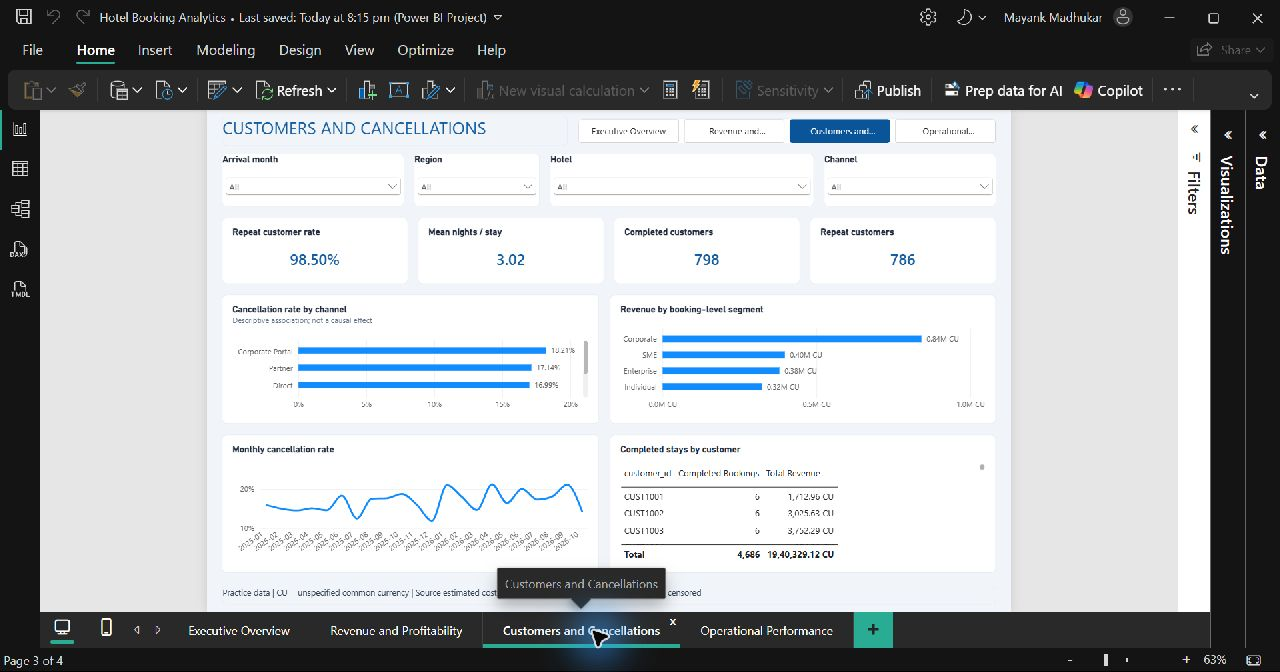

This screenshot's page, from the dashboard's own definition file:
{"tool":"powerbi","page":{"name":"Customers and Cancellations","canvas":[1280,800],"ordinal":2},"visuals":[{"type":"textbox","title":"Header","box":[24,10,550,48],"z":124},{"type":"slicer","title":"Arrival month","fields":{"Values":["DimDate.year_month"]},"box":[24,70,290,84],"z":724},{"type":"pageNavigator","title":"Page navigation","box":[590,14,666,40],"z":730},{"type":"slicer","title":"Region","fields":{"Values":["DimHotels.region"]},"box":[330,70,200,84],"z":1030},{"type":"slicer","title":"Hotel","fields":{"Values":["DimHotels.hotel_name"]},"box":[546,70,420,84],"z":1246},{"type":"slicer","title":"Channel","fields":{"Values":["DimChannels.channel_name"]},"box":[982,70,274,84],"z":1682},{"type":"card","title":"Repeat customer rate","fields":{"Values":["FactBookings.Repeat Customer Rate"]},"box":[24,172,296,105],"z":1744},{"type":"card","title":"Mean nights / stay","fields":{"Values":["FactBookings.Average Length of Stay"]},"box":[336,172,296,105],"z":2056},{"type":"card","title":"Completed customers","fields":{"Values":["FactBookings.Completed Customers"]},"box":[648,172,296,105],"z":2368},{"type":"card","title":"Repeat customers","fields":{"Values":["FactBookings.Repeat Customers"]},"box":[960,172,296,105],"z":2680},{"type":"clusteredBarChart","title":"Cancellation rate by channel","fields":{"Category":["DimChannels.channel_name"],"Y":["FactBookings.Cancellation Rate"]},"box":[24,295,600,205],"z":2974},{"type":"clusteredBarChart","title":"Revenue by booking-level segment","fields":{"Category":["FactBookings.customer_segment"],"Y":["FactBookings.Total Revenue"]},"box":[642,295,614,205],"z":3592},{"type":"lineChart","title":"Monthly cancellation rate","fields":{"Category":["DimDate.year_month"],"Y":["FactBookings.Cancellation Rate"]},"box":[24,518,600,220],"z":5204},{"type":"tableEx","title":"Completed stays by customer","fields":{"Values":["DimCustomers.customer_id","FactBookings.Completed Bookings","FactBookings.Total Revenue"]},"box":[642,518,614,220],"z":5822},{"type":"textbox","title":"Source note","box":[24,758,1232,30],"z":7604}]}

Visuals, with their boxes on the page's 1280x800 design canvas (x1, y1, x2, y2). These are canvas units, not pixel positions in the 1280x672 screenshot, which may show the page scaled, cropped or inside an application window:
"Header" textbox: bbox=(24, 10, 574, 58)
"Arrival month" slicer: bbox=(24, 70, 314, 154)
"Page navigation" pageNavigator: bbox=(590, 14, 1256, 54)
"Region" slicer: bbox=(330, 70, 530, 154)
"Hotel" slicer: bbox=(546, 70, 966, 154)
"Channel" slicer: bbox=(982, 70, 1256, 154)
"Repeat customer rate" card: bbox=(24, 172, 320, 277)
"Mean nights / stay" card: bbox=(336, 172, 632, 277)
"Completed customers" card: bbox=(648, 172, 944, 277)
"Repeat customers" card: bbox=(960, 172, 1256, 277)
"Cancellation rate by channel" clusteredBarChart: bbox=(24, 295, 624, 500)
"Revenue by booking-level segment" clusteredBarChart: bbox=(642, 295, 1256, 500)
"Monthly cancellation rate" lineChart: bbox=(24, 518, 624, 738)
"Completed stays by customer" tableEx: bbox=(642, 518, 1256, 738)
"Source note" textbox: bbox=(24, 758, 1256, 788)
